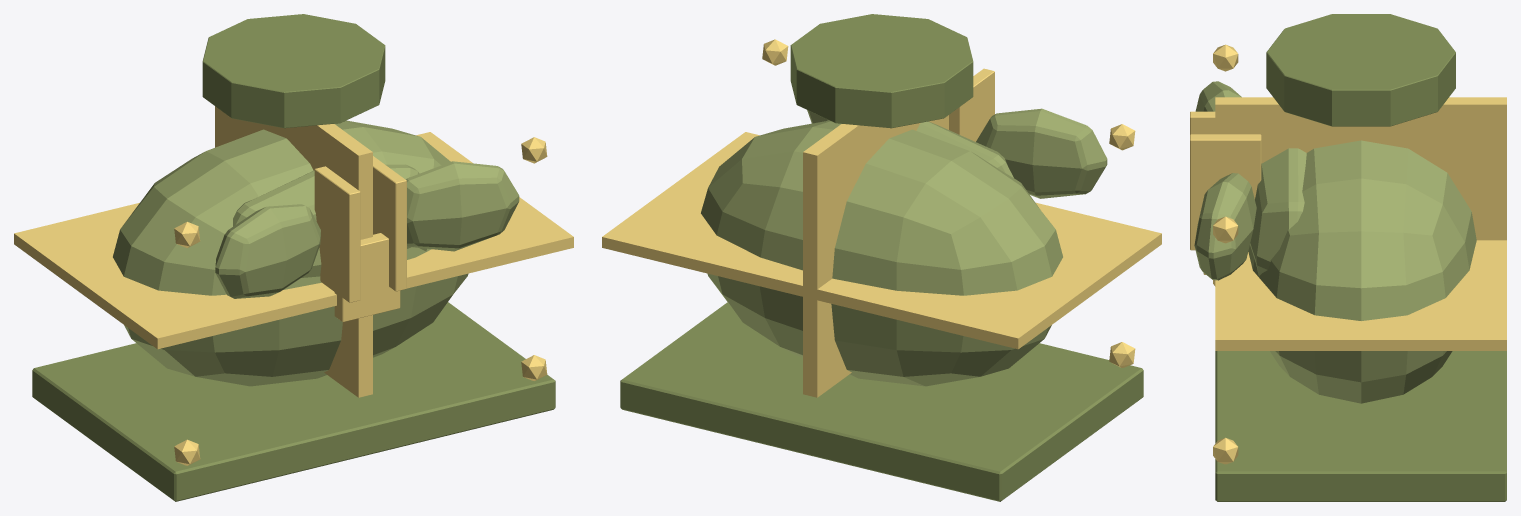
Rendered from breastplate_olive.glb.
3 views of the same model, side by side, from view 1: azimuth 30°, elevation 25°; view 2: azimuth 150°, elevation 25°; view 3: azimuth 270°, elevation 25° (orthographic).
Visible parts, largest first — view 1: Breastplate; view 2: Breastplate; view 3: Breastplate.
Boxes of the visible parts, <box> form: Breastplate: <box>14,14,573,501</box>; Breastplate: <box>602,14,1161,501</box>; Breastplate: <box>1190,14,1506,501</box>.
Size of the model in its own units: 0.72 by 0.58 by 0.4675.
